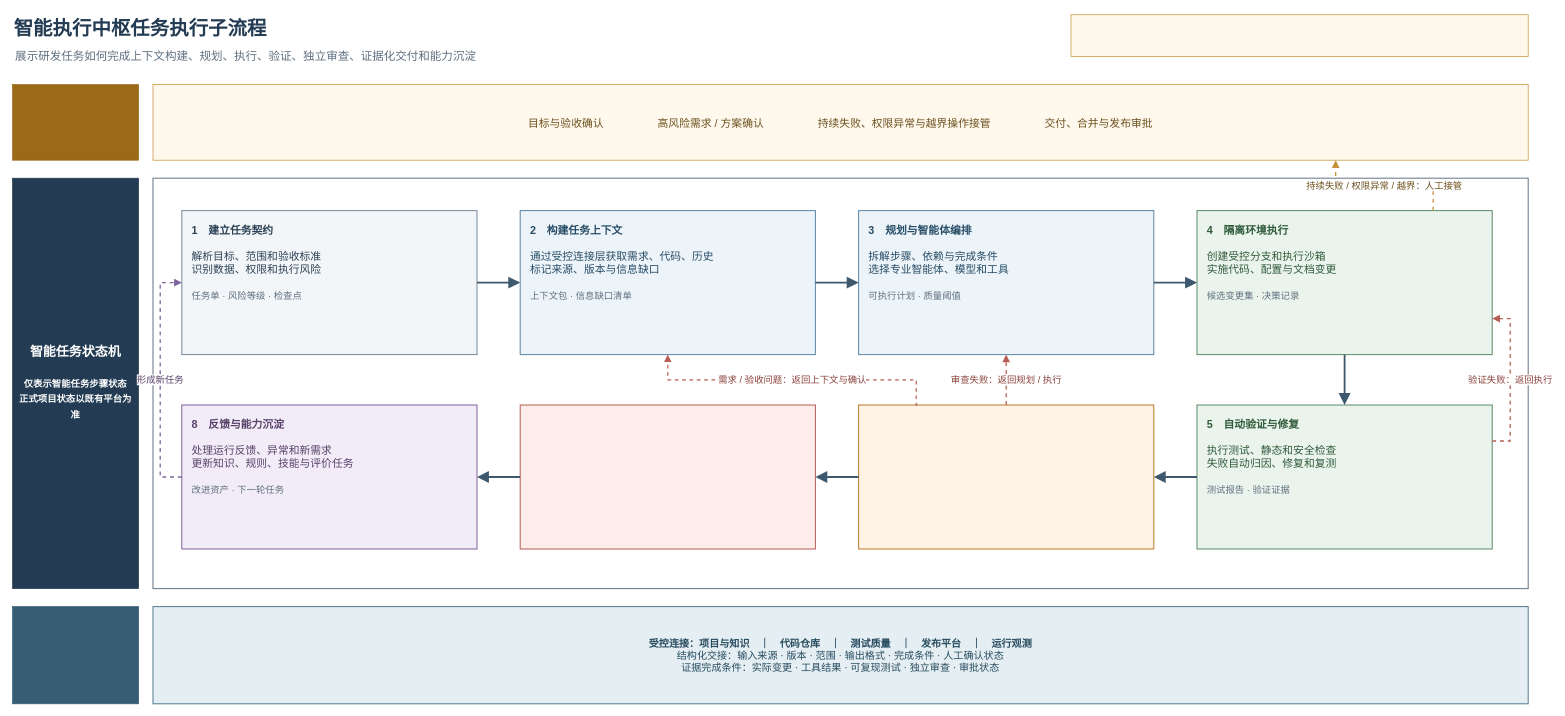
Image size: 1565x716. Some labels were removed from this diagram. Here are the shapes that lost their labels. From the top down, the box of each, then its label:
(1070, 14, 1528, 57): 低风险任务按策略自动推进；信息不足、持续失败、越界或中高风险操作进入人工检查点
(12, 84, 139, 160): 人工检查点
(519, 404, 816, 549): 7 证据化交付 汇总 PR、变更、测试和风险材料 人工审批后触发现有交付流程 获批交付包 · 发布状态
(858, 404, 1154, 549): 6 独立审查与整改 独立上下文审查正确性、安全与影响 提交触发 / 定时全量代码审核 审查报告 · 整改结论
(12, 606, 139, 704): 受控调用、交接与证据
